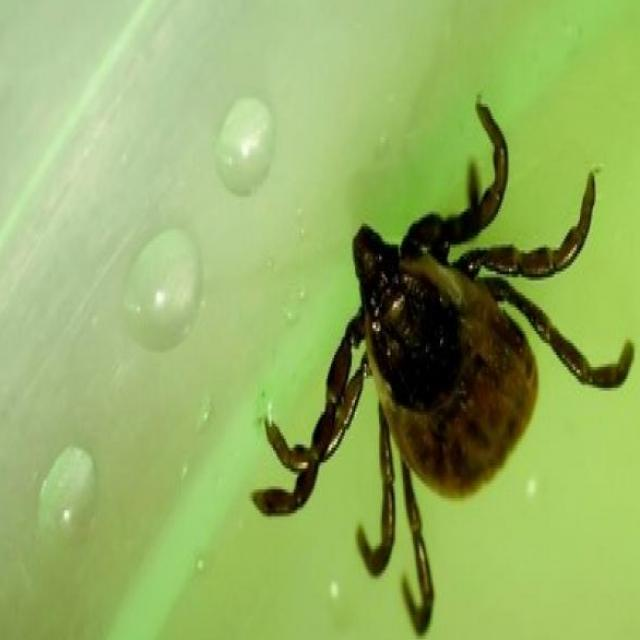Rhipicephalus Sanguineus-F: (252, 101, 636, 639)
